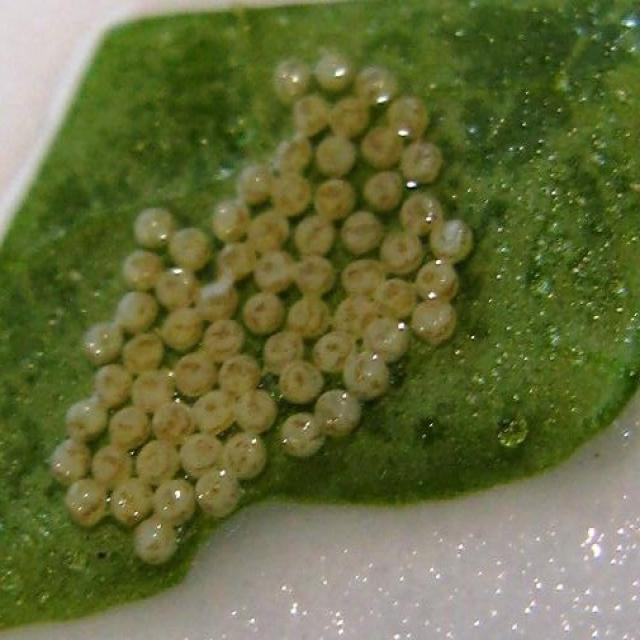army worm: (51, 42, 482, 582)
